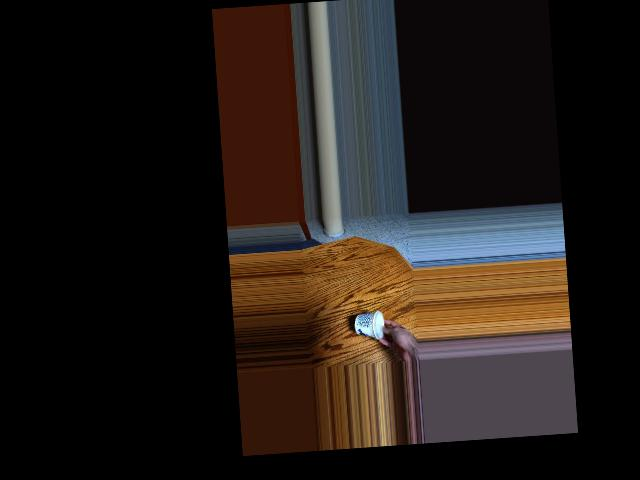cotage: (356, 315, 388, 340)
